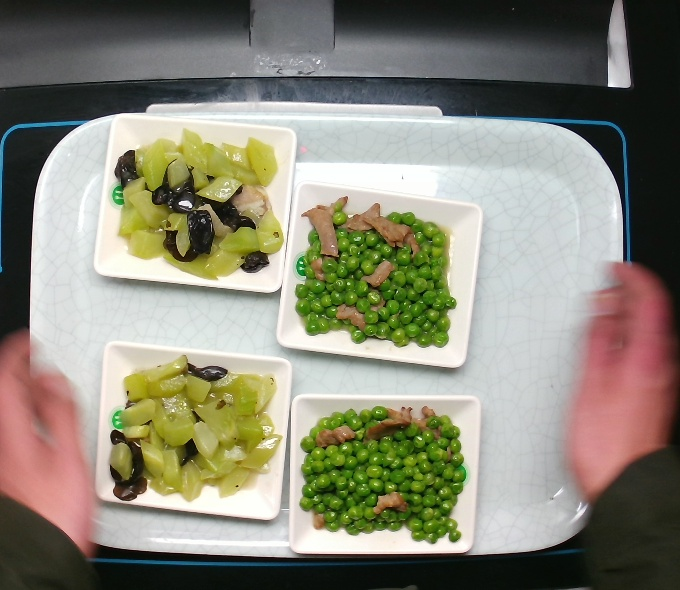wcq-CanDouRouSi: (291, 398, 473, 559), (286, 195, 468, 356)
wcq-WoSunKuai: (100, 351, 287, 507), (102, 126, 289, 282)
